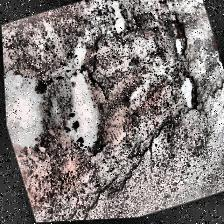pothole: (48, 64, 118, 162), (3, 57, 65, 161), (164, 16, 198, 60), (174, 72, 206, 114), (104, 0, 134, 38), (206, 32, 218, 54)
